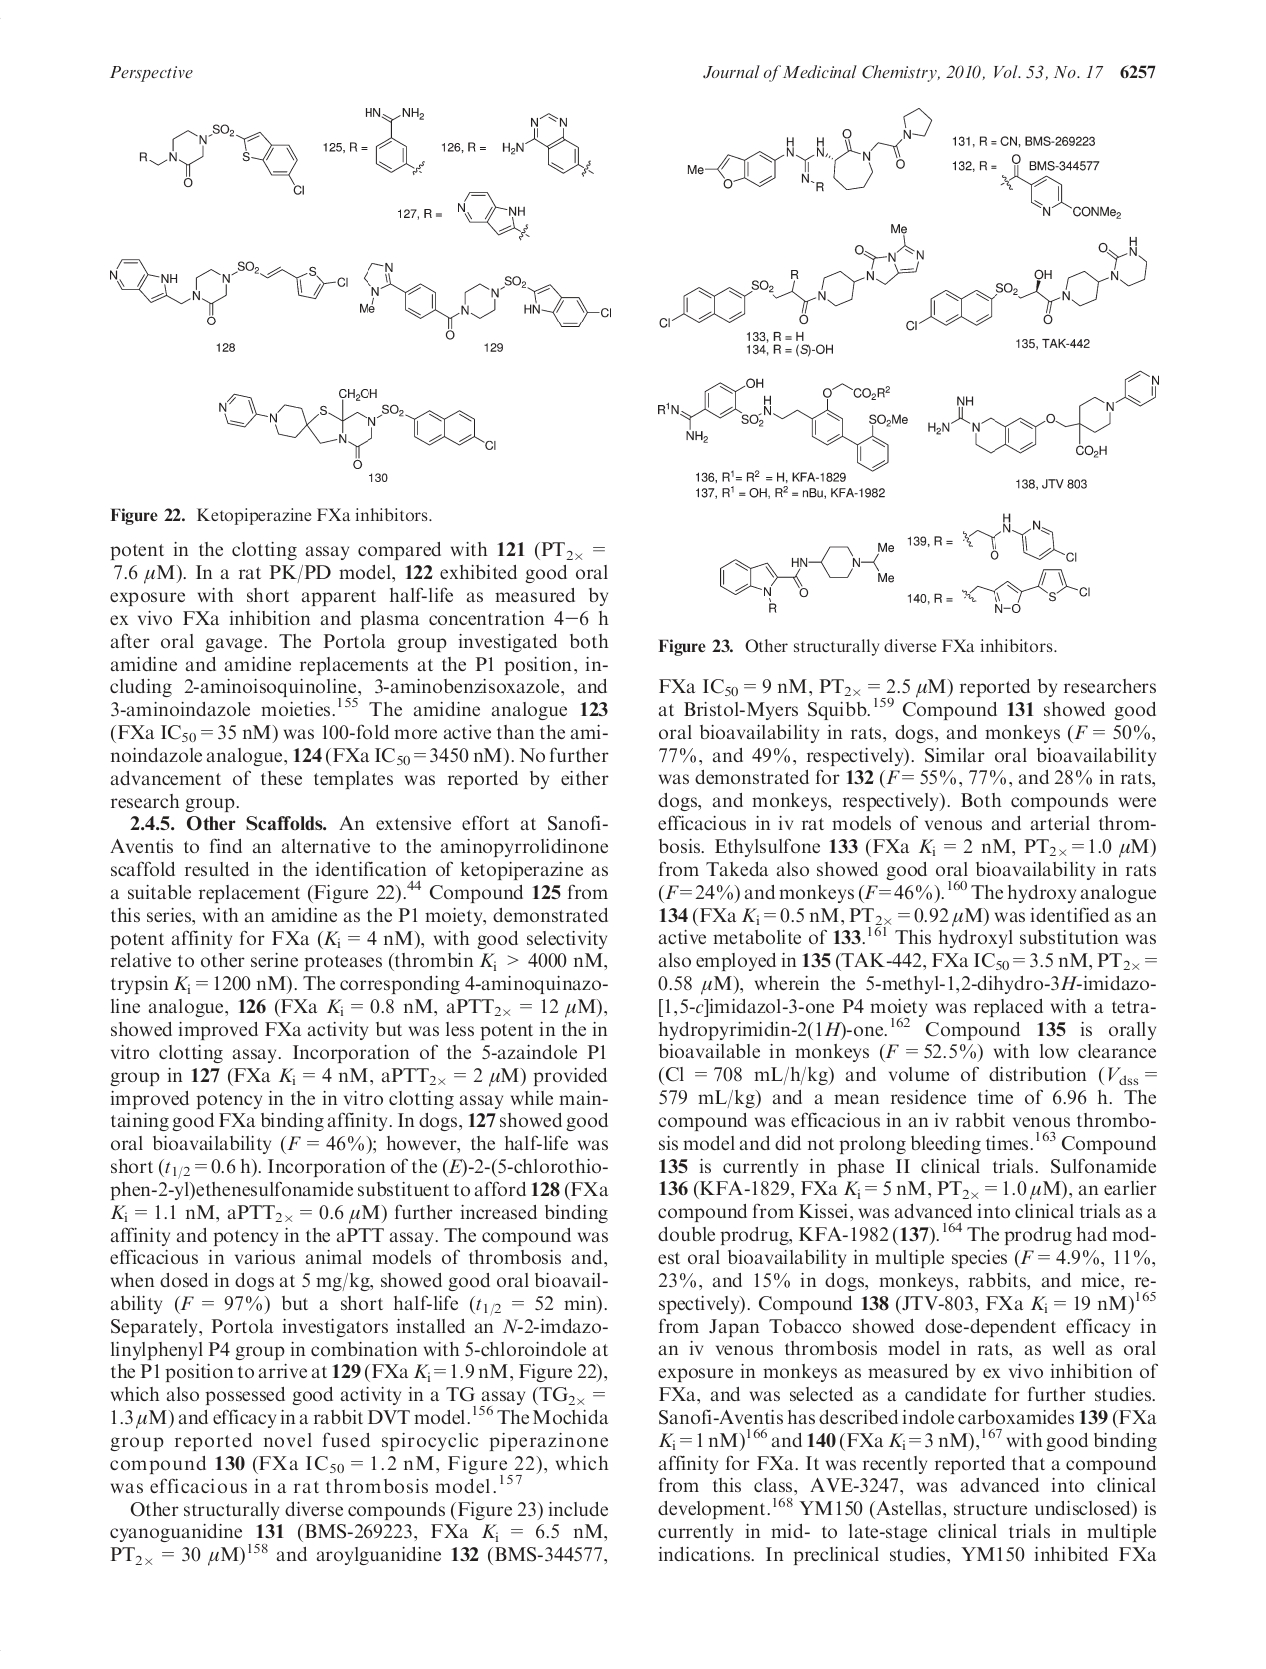exist_molecular: (652, 219, 928, 339), (213, 380, 508, 476), (902, 227, 1149, 336), (680, 102, 942, 203), (652, 374, 911, 472), (920, 367, 1176, 467), (360, 247, 618, 344), (102, 251, 356, 328), (133, 114, 309, 205), (714, 536, 899, 618), (971, 156, 1126, 227), (956, 563, 1104, 622), (324, 101, 432, 180), (961, 509, 1090, 571), (440, 180, 540, 250), (501, 108, 594, 181)
